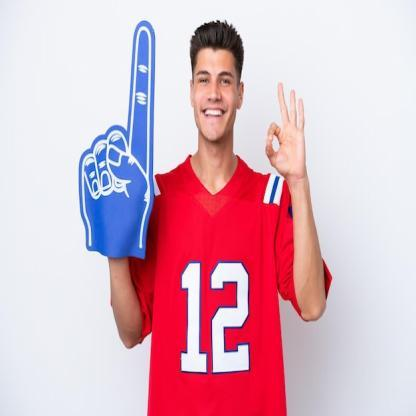ok: (264, 78, 306, 182)
